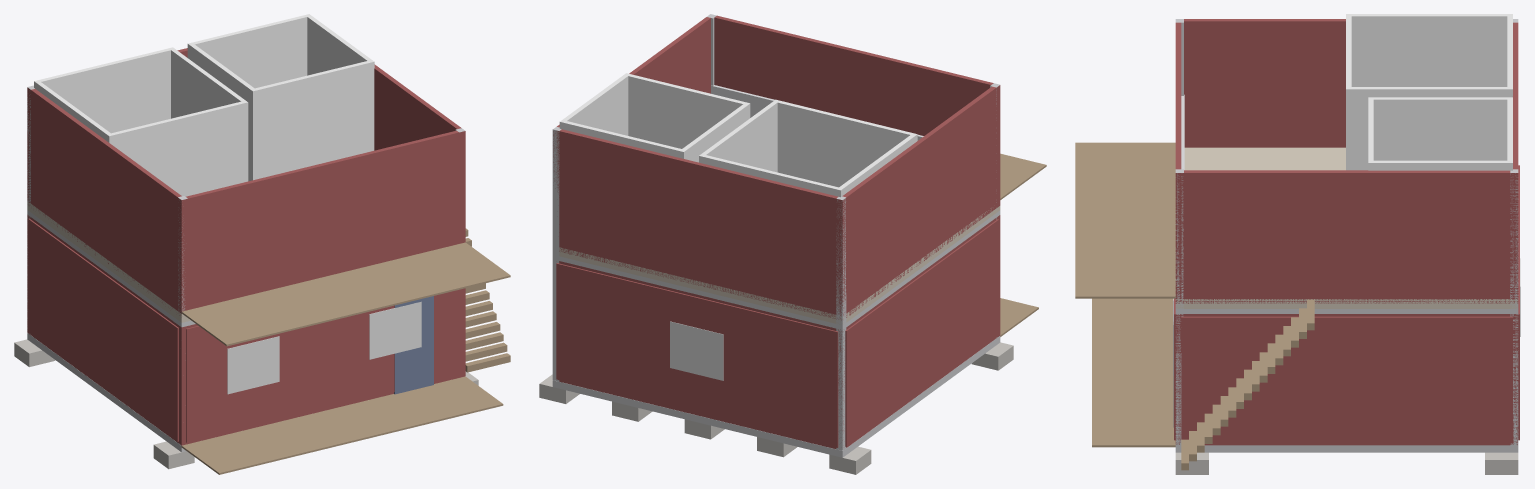
The model's file is Duplex-20-Base-MaroonRed-LOD3.glb.
The picture shows the model from 3 angles, left to right: view 1: azimuth 30°, elevation 25°; view 2: azimuth 150°, elevation 25°; view 3: azimuth 270°, elevation 25°; orthographic projection. The views are drawn at different scales.
Parts seen in each view (by area): view 1: ExteriorShellUpper, ExteriorPanelsStandard, StudyUpper, BedroomUpper, BalconyUpper, BalconyGround, WindowsStandard, StaircaseExternal, ExteriorShell, EntryDoor, FoundationBlocks, FloorUpper (+3 smaller); view 2: ExteriorShellUpper, ExteriorPanelsStandard, BedroomUpper, StudyUpper, FloorUpper, VerticalStructure, FoundationBlocks, BaseFrame, ExteriorShell, WindowsStandard, TopFrame, BalconyUpper (+2 smaller); view 3: ExteriorShellUpper, ExteriorPanelsStandard, BalconyUpper, BedroomUpper, BalconyGround, StudyUpper, FloorUpper, StaircaseExternal, ExteriorShell, VerticalStructure, BaseFrame, TopFrame (+1 smaller).
Boxes of the visible parts, x1,y1,x2,y2 form: ExteriorShellUpper: [27, 48, 465, 315]; ExteriorPanelsStandard: [28, 218, 461, 442]; StudyUpper: [187, 14, 374, 181]; BedroomUpper: [34, 47, 248, 196]; BalconyUpper: [181, 242, 510, 346]; BalconyGround: [181, 376, 503, 474]; WindowsStandard: [227, 301, 421, 394]; StaircaseExternal: [465, 228, 510, 372]; ExteriorShell: [27, 214, 465, 445]; EntryDoor: [394, 296, 433, 394]; FoundationBlocks: [14, 339, 478, 469]; FloorUpper: [27, 201, 190, 322]; ExteriorShellUpper: [553, 15, 1000, 320]; ExteriorPanelsStandard: [556, 219, 999, 447]; BedroomUpper: [699, 99, 917, 197]; StudyUpper: [559, 73, 750, 162]; FloorUpper: [559, 206, 1000, 324]; VerticalStructure: [552, 14, 999, 450]; FoundationBlocks: [539, 342, 1013, 474]; BaseFrame: [552, 336, 1000, 457]; ExteriorShell: [559, 215, 1000, 448]; WindowsStandard: [670, 321, 723, 380]; TopFrame: [559, 210, 1000, 329]; BalconyUpper: [1000, 153, 1046, 199]; ExteriorShellUpper: [1175, 19, 1518, 303]; ExteriorPanelsStandard: [1174, 165, 1519, 443]; BalconyUpper: [1075, 142, 1175, 298]; BedroomUpper: [1346, 14, 1512, 170]; BalconyGround: [1092, 298, 1175, 447]; StudyUpper: [1368, 97, 1512, 170]; FloorUpper: [1176, 147, 1518, 308]; StaircaseExternal: [1181, 299, 1314, 470]; ExteriorShell: [1175, 314, 1518, 445]; VerticalStructure: [1175, 19, 1518, 445]; BaseFrame: [1175, 445, 1518, 452]; TopFrame: [1175, 309, 1518, 313].
Bounding box in the file's own units: 7.94 × 6 × 8.
